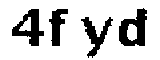4: (6, 6, 46, 49)
d: (116, 5, 152, 55)
f: (46, 6, 73, 50)
y: (80, 12, 114, 60)
